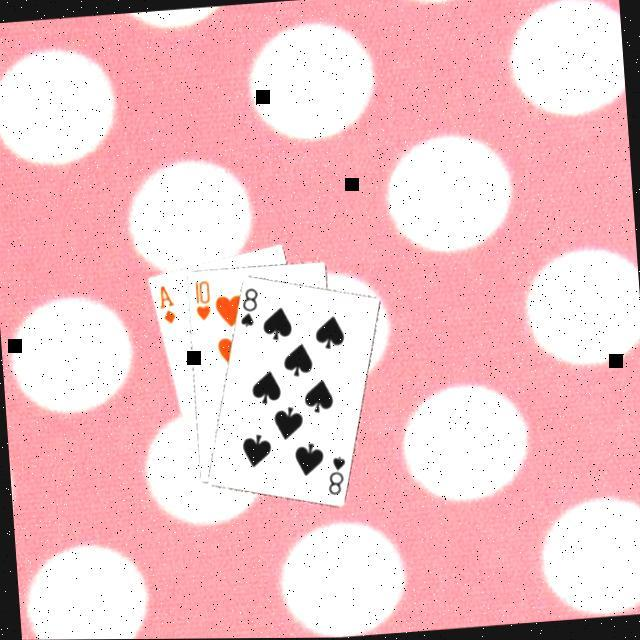10H: (192, 275, 215, 321)
8S: (323, 449, 352, 496), (236, 281, 264, 328)
AD: (156, 280, 180, 324)
